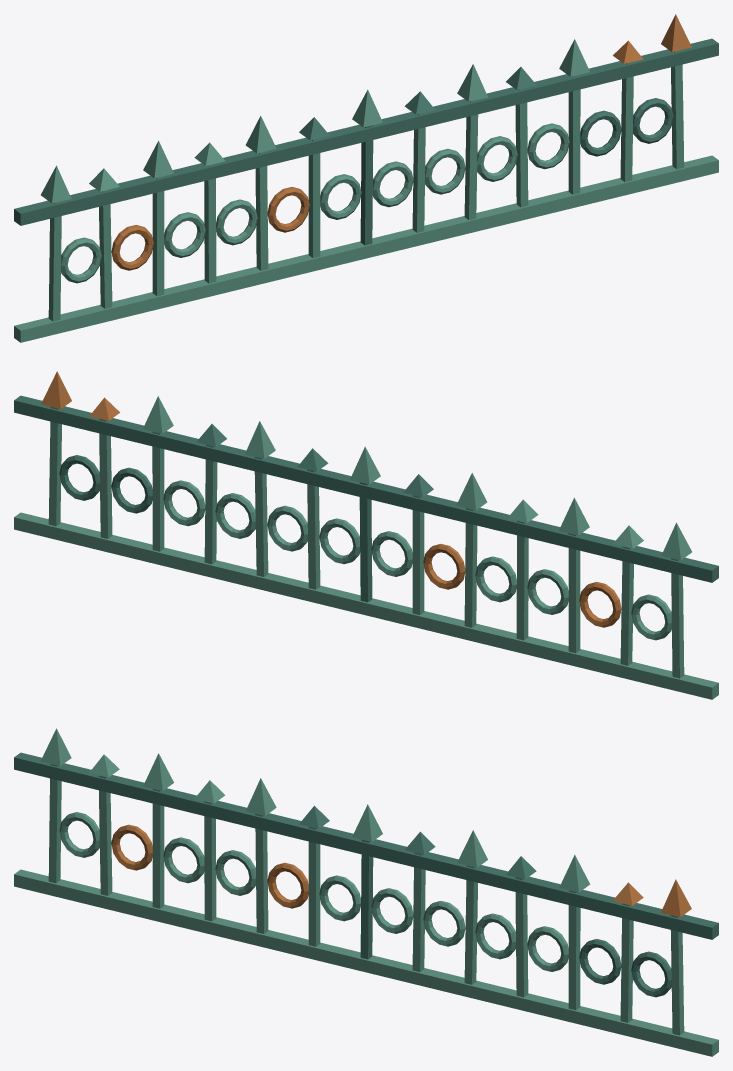
The model's file is fence_section3.obj.
3 views of the same model, one above another, from view 1: azimuth 30°, elevation 25°; view 2: azimuth 150°, elevation 25°; view 3: azimuth 330°, elevation 25° (orthographic).
Bounding box in the file's own units: 3 × 0.6802 × 0.085.
